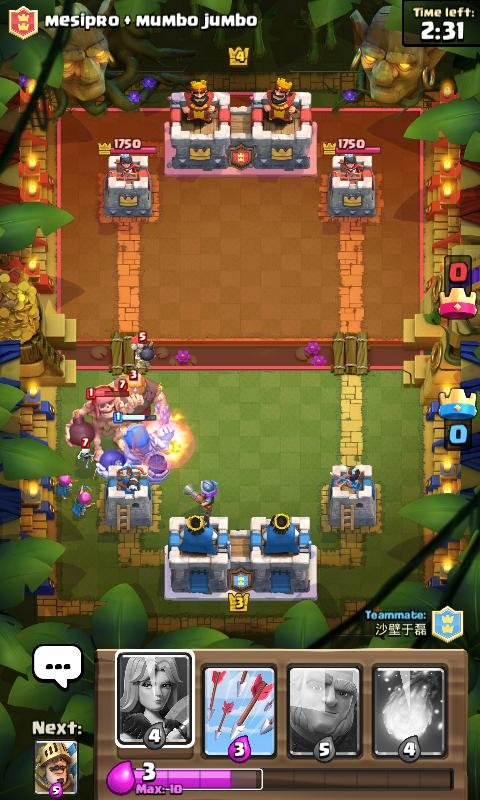ally_archer: (70, 484, 95, 519), (55, 472, 77, 500)
ally_giant_skeleton: (94, 410, 169, 483)
ally_musketeer: (181, 478, 218, 515)
enemy_bomber: (128, 330, 154, 364)
enemy_giant: (105, 368, 167, 419)
enemy_giant_skeleton: (63, 383, 143, 446)
enemy_skeleton: (76, 436, 95, 469)
